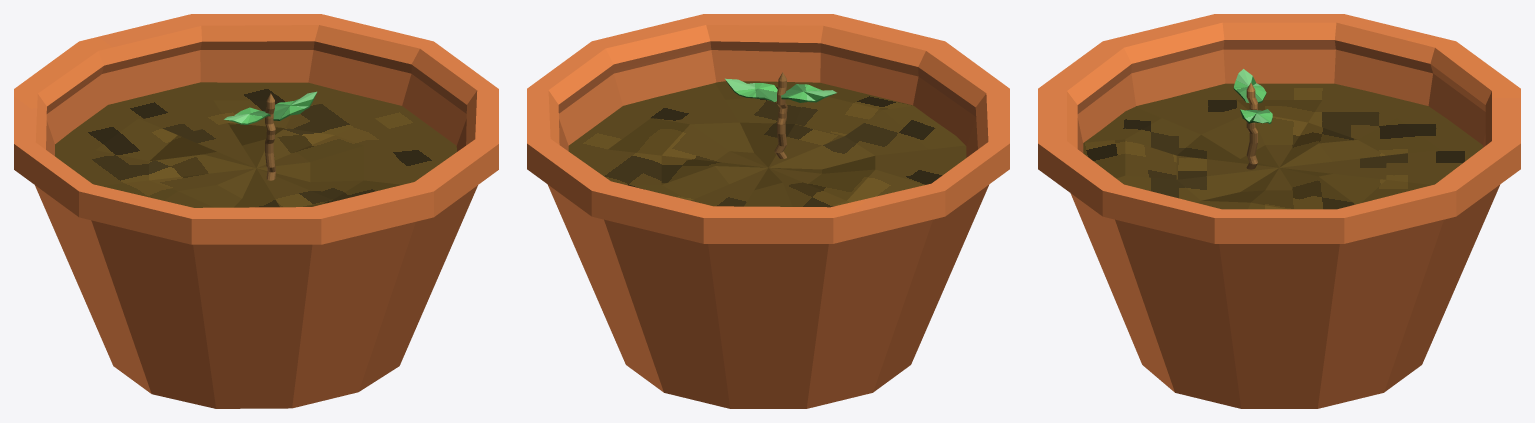
File: plantpot_seedling.gltf
3 renders of one model, left to right at view 1: azimuth 30°, elevation 25°; view 2: azimuth 150°, elevation 25°; view 3: azimuth 270°, elevation 25°, orthographic.
Parts seen in each view (by area): view 1: pot, soil, Left Leaf (×2), Stem; view 2: pot, soil, Left Leaf (×2), Stem; view 3: pot, soil, Stem, Left Leaf.
Part boxes in pixels (x1=…): pot: x1=14, y1=14, x2=498, y2=408; soil: x1=55, y1=82, x2=456, y2=207; Left Leaf (×2): x1=224, y1=91, x2=316, y2=124; Stem: x1=265, y1=93, x2=275, y2=180; pot: x1=527, y1=14, x2=1009, y2=408; soil: x1=568, y1=81, x2=966, y2=207; Left Leaf (×2): x1=725, y1=78, x2=836, y2=102; Stem: x1=774, y1=72, x2=787, y2=158; pot: x1=1038, y1=14, x2=1520, y2=408; soil: x1=1083, y1=83, x2=1482, y2=209; Stem: x1=1246, y1=83, x2=1257, y2=169; Left Leaf: x1=1233, y1=69, x2=1266, y2=103.
Size of the model in its own units: 1.06 by 0.6438 by 1.06.
4 materials, 4 textured.
